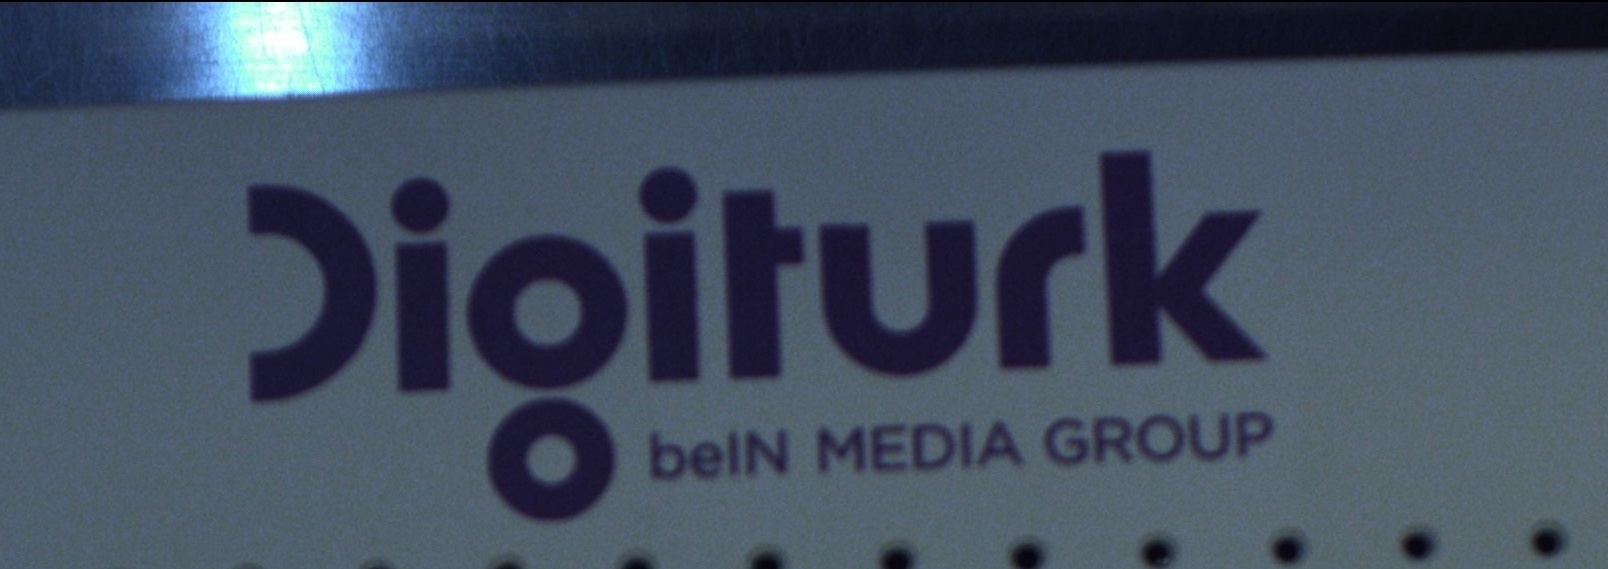BW_H168ADigiturk: (184, 103, 1294, 523)
